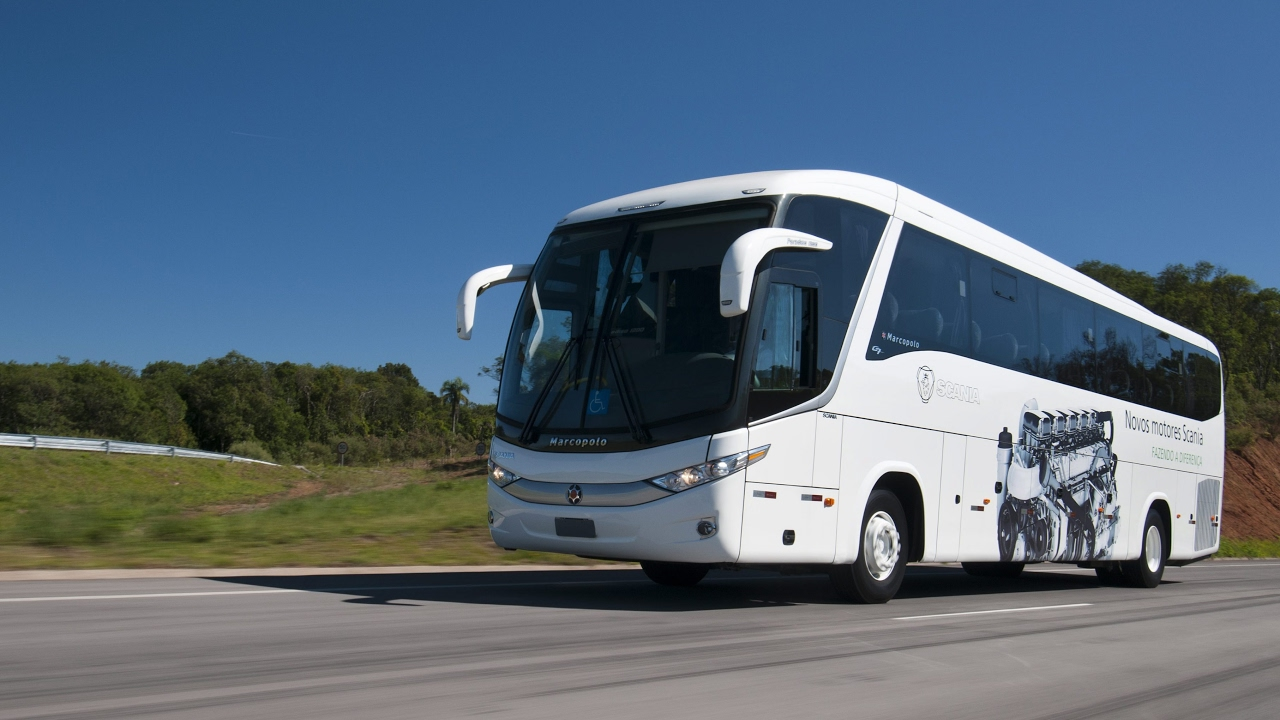bus: (454, 166, 1231, 603)
